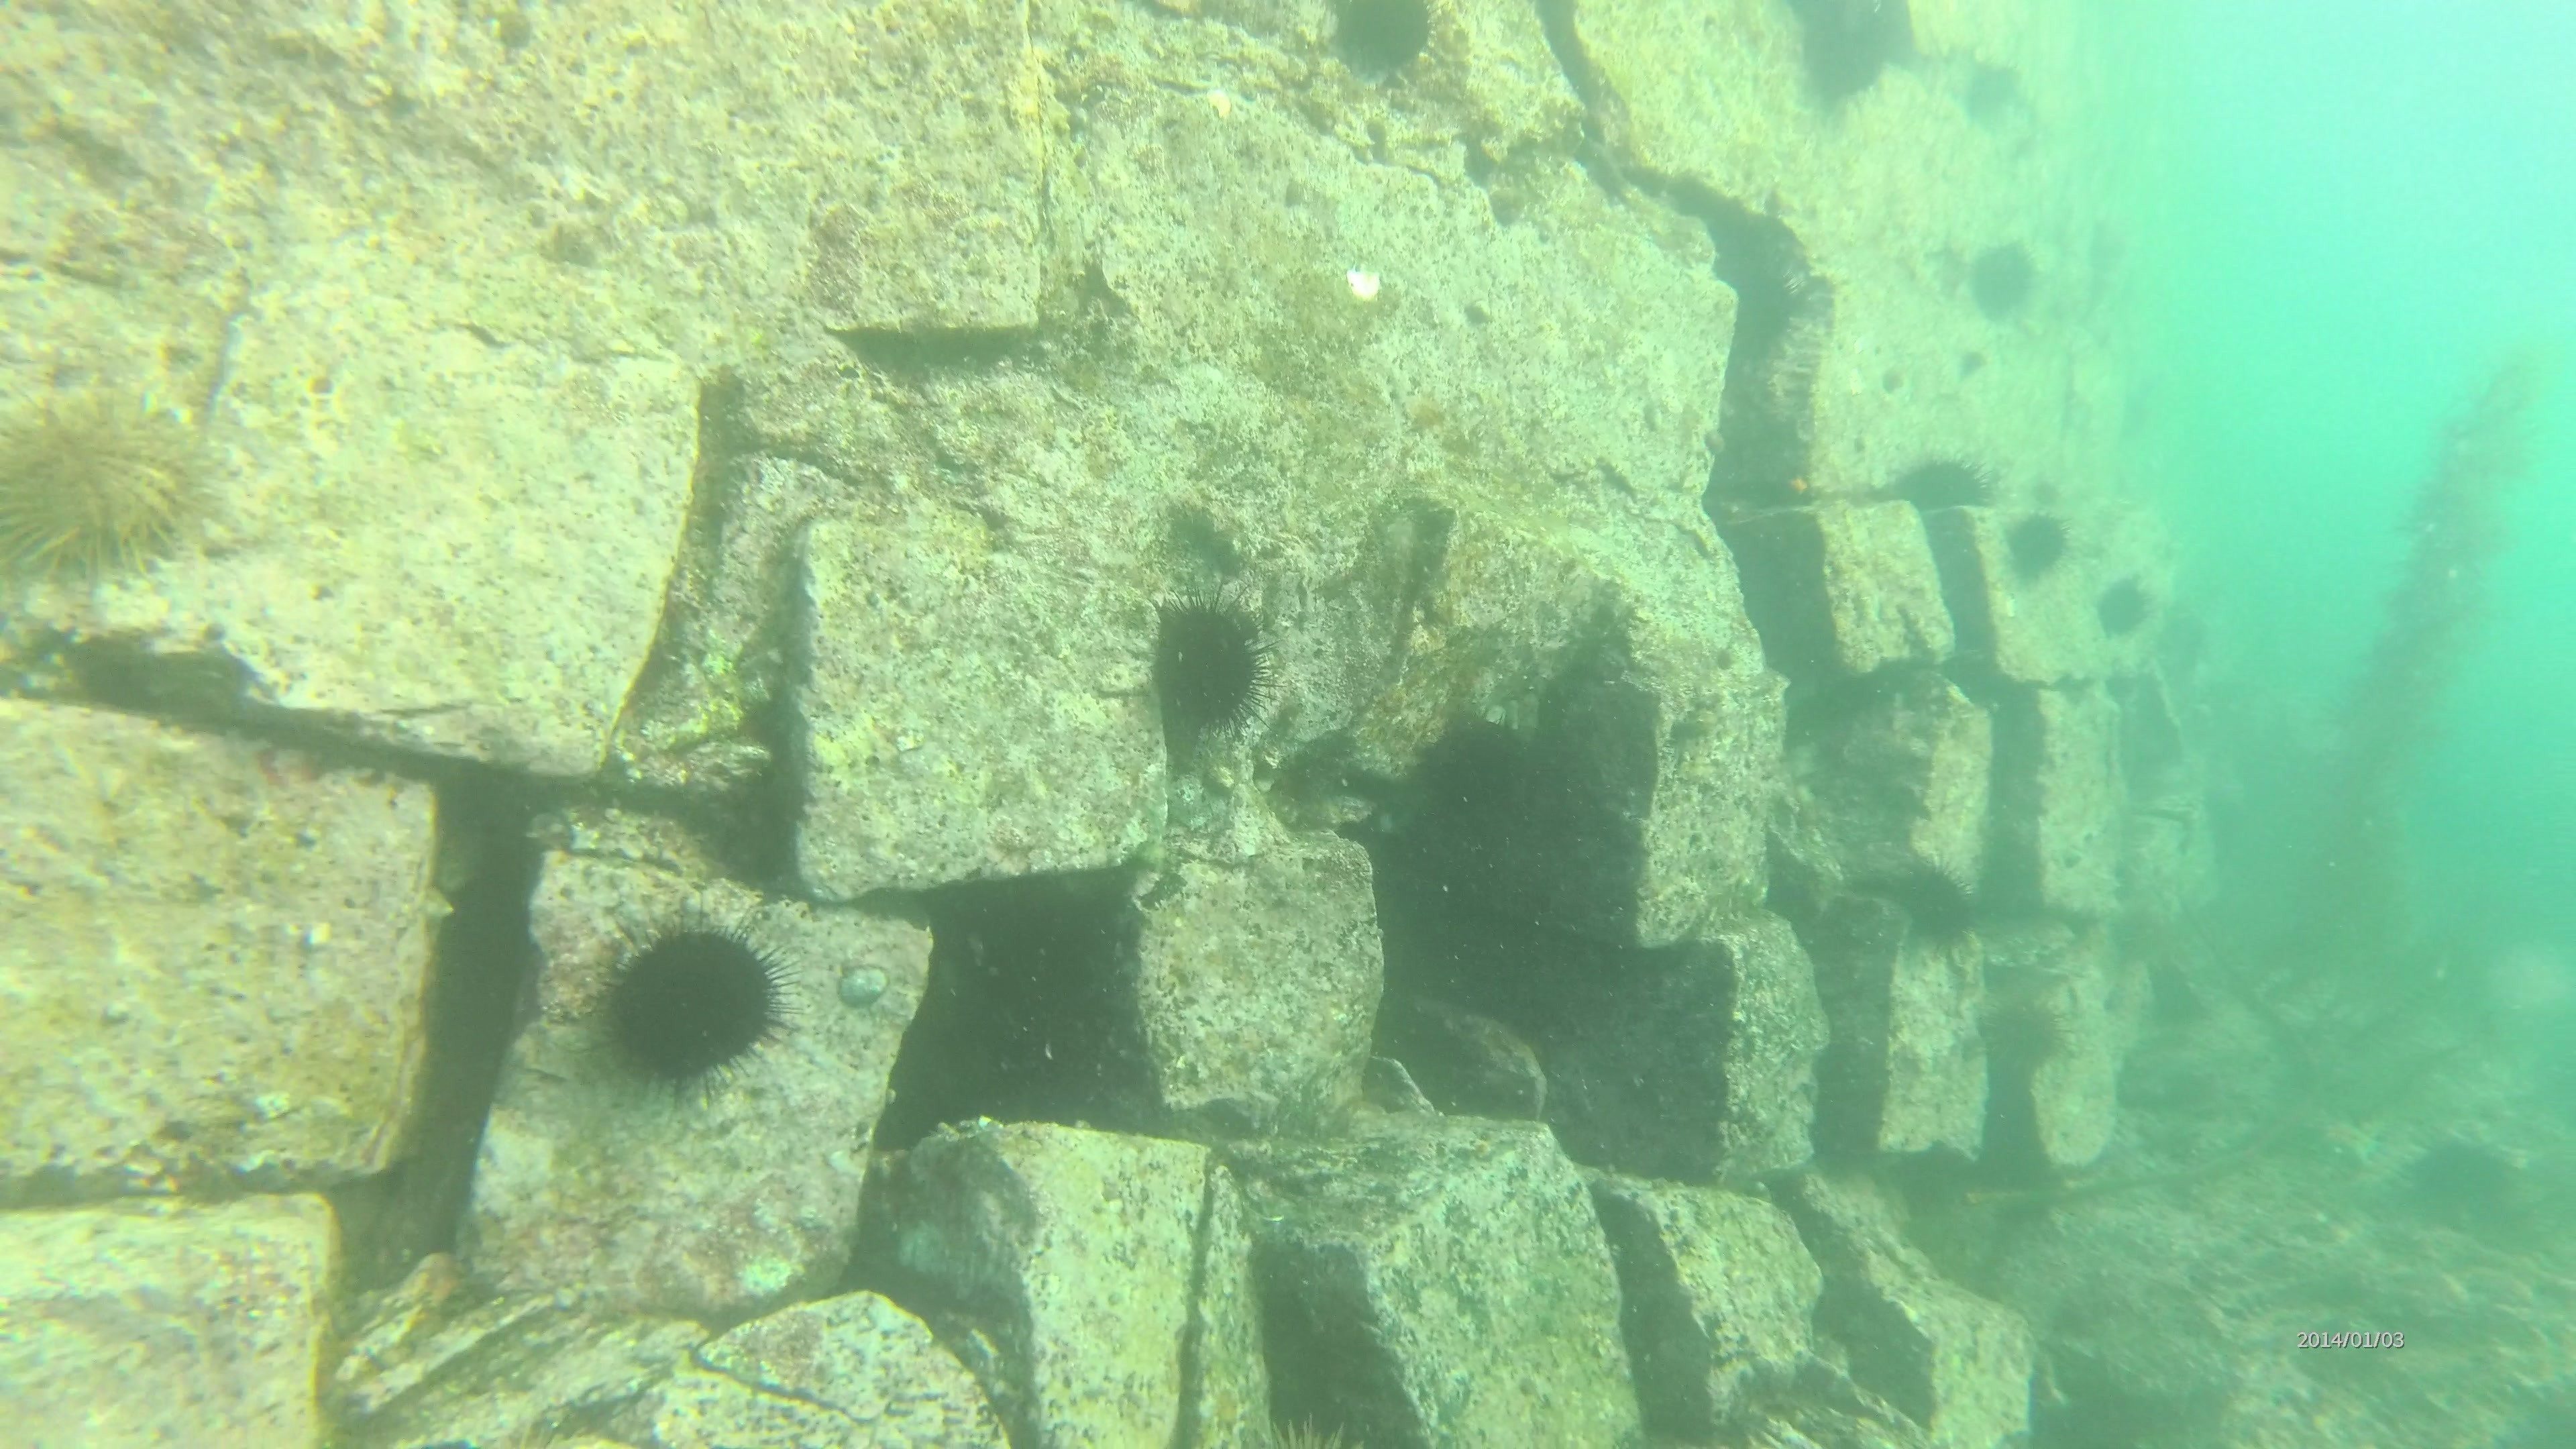echinus: (2, 387, 212, 584), (584, 906, 796, 1097), (1138, 589, 1277, 741), (1405, 711, 1548, 858), (1783, 4, 1916, 113), (2397, 1129, 2525, 1238), (1879, 853, 1982, 959), (1320, 0, 1447, 85), (1877, 444, 1997, 524), (1974, 989, 2072, 1086), (1957, 235, 2045, 326), (1951, 51, 2033, 136), (1999, 504, 2075, 587), (2150, 596, 2215, 685), (2089, 571, 2157, 642)
